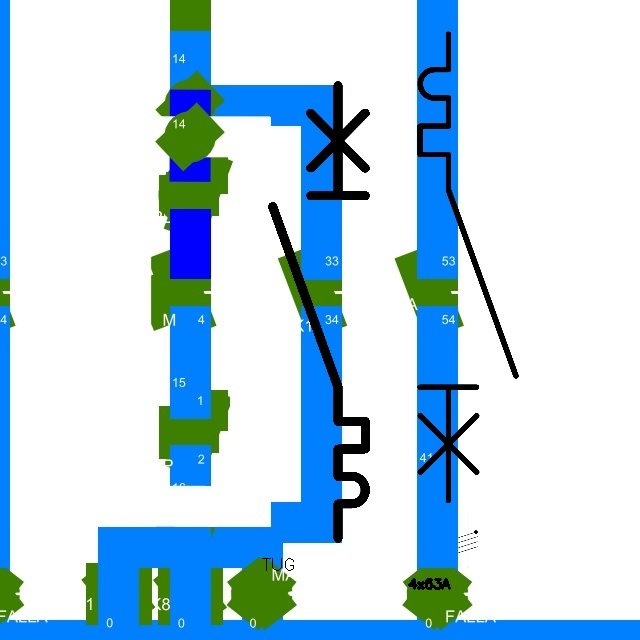interruptor_termomagnetico: (408, 22, 528, 512), (261, 74, 377, 550)
